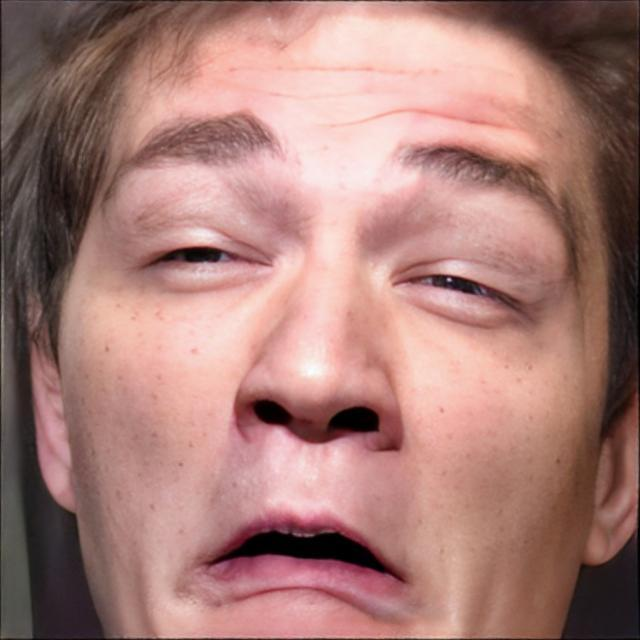disgust: (58, 2, 612, 640)
